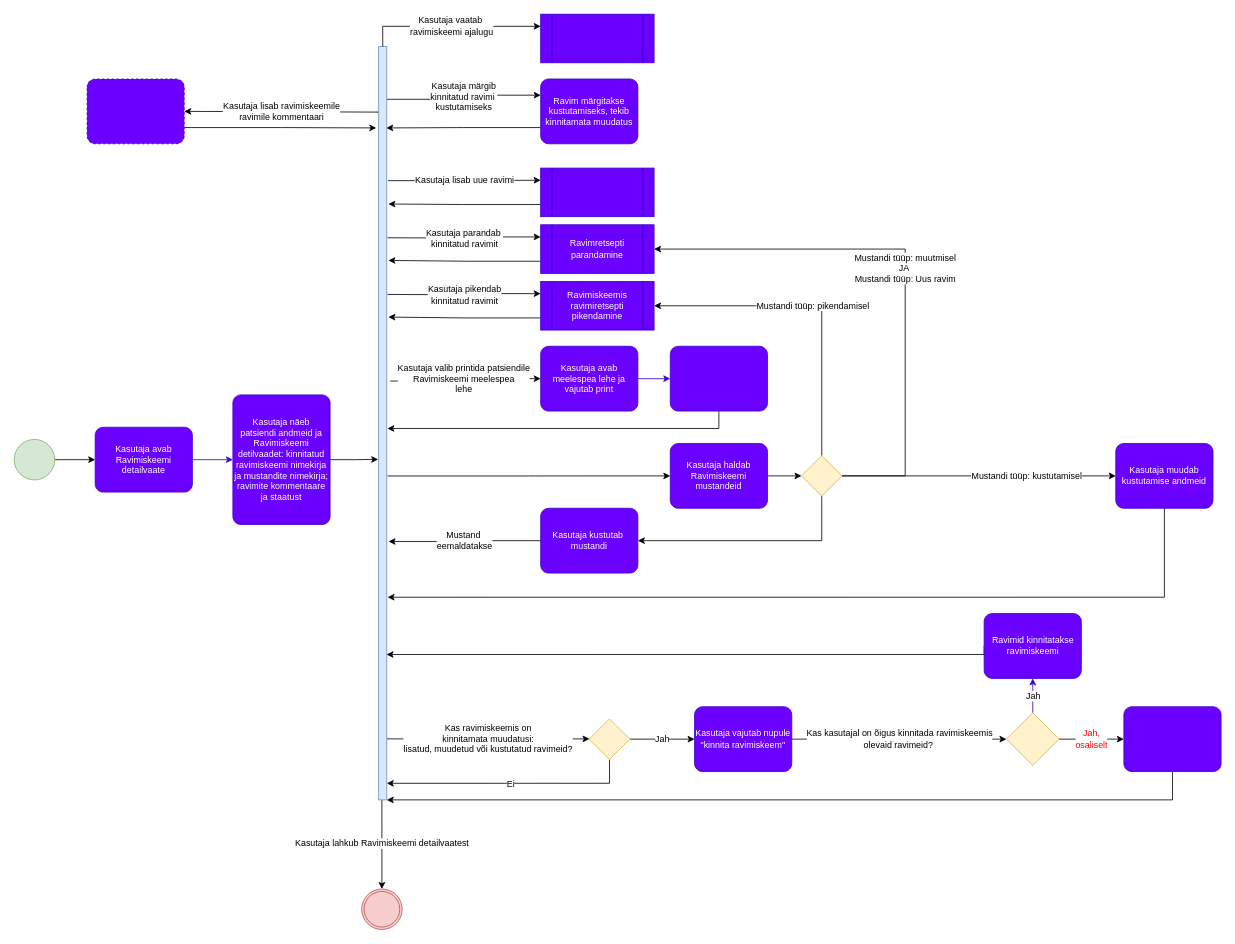
The diagram is 1235 pixels wide and 944 high, and some of its shapes have lost their labels. Each missing label, with the centre of its shape:
"Patsiendile on prinditud kehtivate ravimitega ravimskeem" goes at [718,378].
"Ravimile tekib kommentaar juurde" goes at [135,111].
"Ravimiskeemi ajalugu" goes at [597,38].
"Ravimiskeemi ravimi lisamine" goes at [597,192].
"Ravimskeemi kinnitatakse ravimid, mille kinnitamise õigus kasutajal on" goes at [1172,739].
